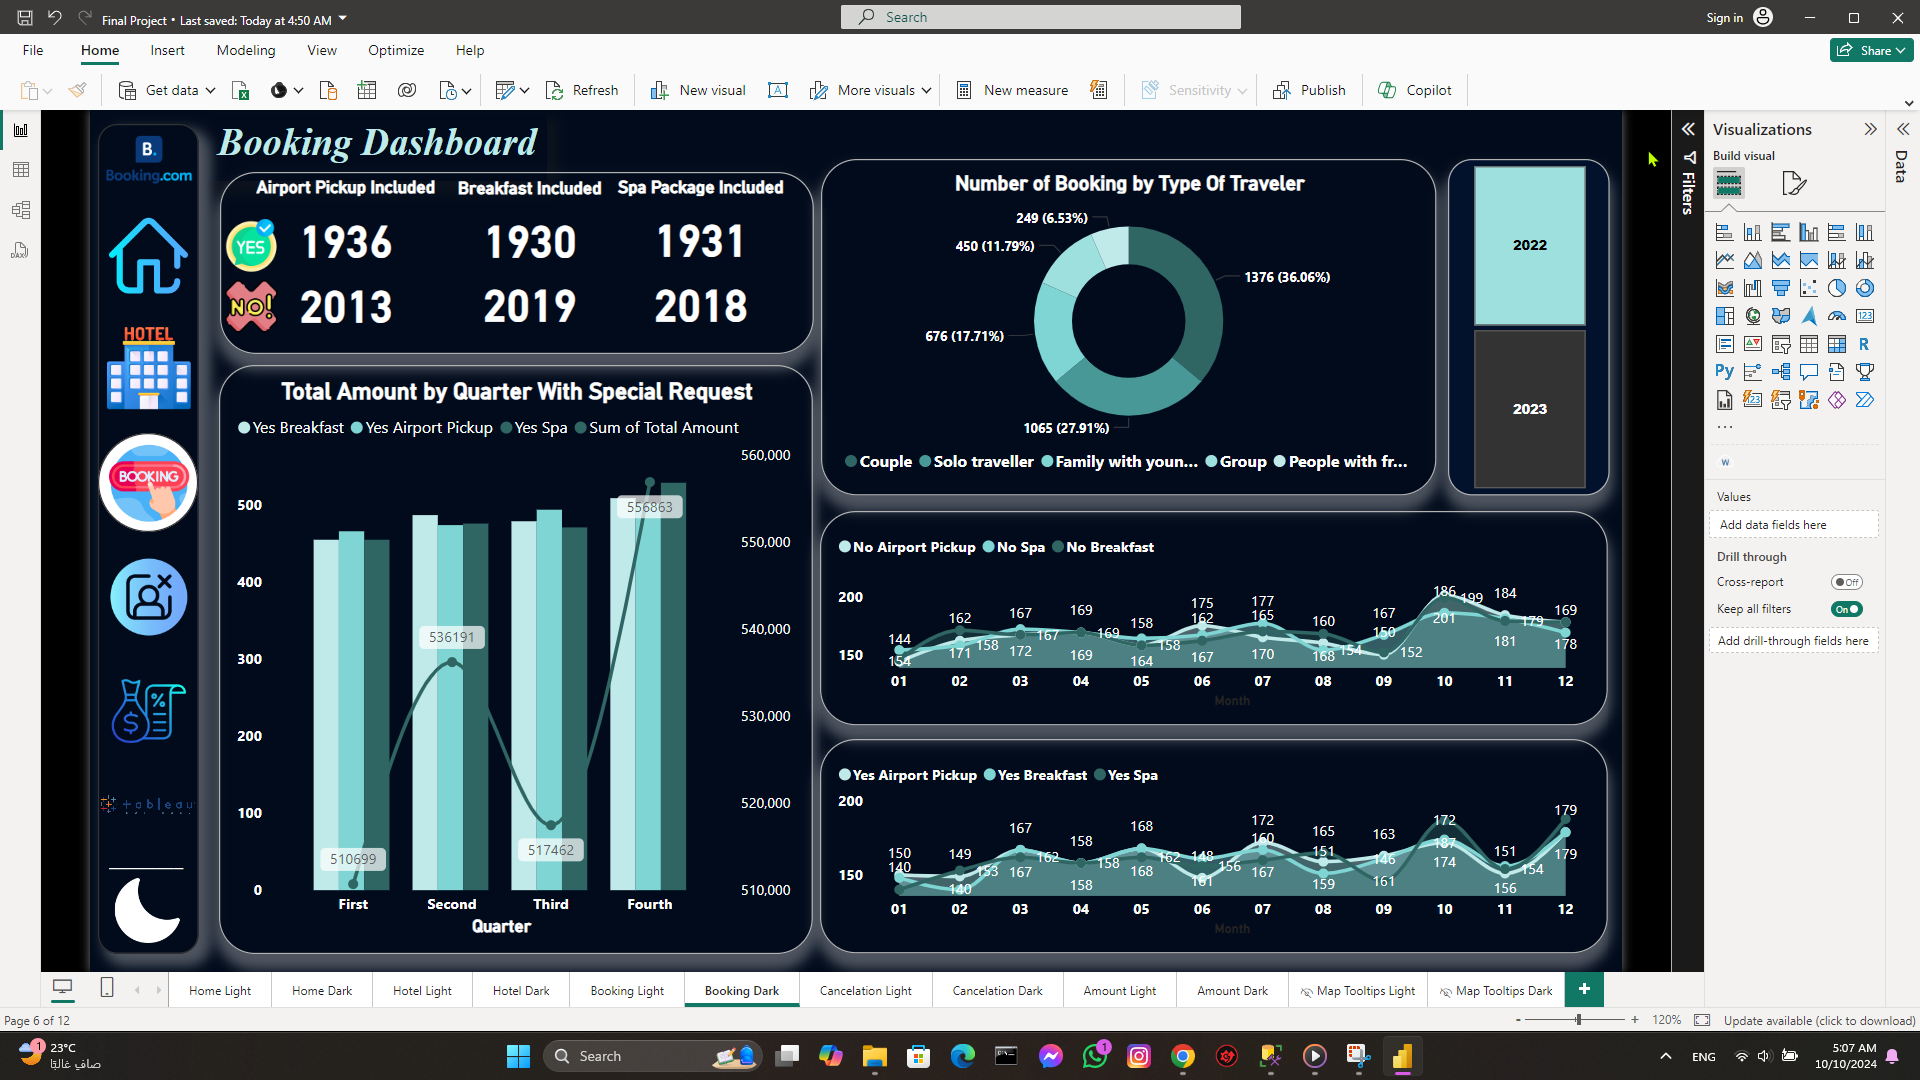

Layout of this report page (visuals, bound fields, positions):
{"tool":"tableau","page":{"name":"Booking Dashboard ","canvas":[1450,830],"ordinal":0},"visuals":[{"type":"image","param":"Image/boas.jpg","box":[8,8,1434,814]},{"type":"text","box":[508,26.4,370,34.2]},{"type":"image","param":"Image/choose.png","box":[91,28.3,47,39.1]},{"type":"text","box":[65,75.2,100,29.3]},{"type":"worksheet","title":"Num Of Completed and Cancelled Booking","mark":"Pie","box":[218,89,374,191]},{"type":"worksheet","title":" Booking with Breakfast Included","mark":"Automatic","rows":["Calculation_673288203220189195","Calculation_673288203220189195"],"box":[597,92,372,186]},{"type":"worksheet","title":"Bookings By Room Type ","mark":"Automatic","rows":["Booking_id_SK","Booking_id_SK"],"cols":["Room Type"],"box":[992,93,427,384]},{"type":"dashboard-object","box":[26,133.8,174,52.7]},{"type":"dashboard-object","box":[27,210.9,174,46.9]},{"type":"dashboard-object","box":[26,284.2,174,46.9]},{"type":"worksheet","title":" Booking with Spa Included","mark":"Automatic","rows":["Calculation_673288203220189195","Calculation_673288203220189195"],"box":[222,291,369,194]},{"type":"worksheet","title":" Booking with Airport Pickup Included","mark":"Automatic","rows":["Calculation_673288203220189195","Calculation_673288203220189195"],"box":[599,292,372,191]},{"type":"dashboard-object","box":[26,357.4,174,46.9]},{"type":"dashboard-object","box":[26,437.5,174,46.9]},{"type":"worksheet","title":"Num Of Bookings By Countries","mark":"Automatic","rows":["Booking_id_SK"],"cols":["Country"],"box":[219,496,1203,310]},{"type":"blank","box":[53,504,123,2]},{"type":"text","box":[80,519,73,34]},{"type":"dashboard-object","box":[71,565,76,39]},{"type":"dashboard-object","box":[122,565,91,39]},{"type":"blank","box":[51,631,123,2]},{"type":"text","box":[47,644,144,25]},{"type":"image","param":"Image/Microsoft-Power-BI-Symbol.png","box":[75,676,77,61]}]}

Visuals, with their boxes on the page's 1450x830 design canvas (x1, y1, x2, y2). These are canvas units, not pixel positions in the 1920x1080 screenshot, which may show the page scaled, cropped or inside an application window:
image: l=8, t=8, r=1442, b=822
text: l=508, t=26, r=878, b=61
image: l=91, t=28, r=138, b=67
text: l=65, t=75, r=165, b=104
"Num Of Completed and Cancelled Booking" worksheet (Pie marks): l=218, t=89, r=592, b=280
" Booking with Breakfast Included" worksheet: l=597, t=92, r=969, b=278
"Bookings By Room Type " worksheet: l=992, t=93, r=1419, b=477
dashboard-object: l=26, t=134, r=200, b=186
dashboard-object: l=27, t=211, r=201, b=258
dashboard-object: l=26, t=284, r=200, b=331
" Booking with Spa Included" worksheet: l=222, t=291, r=591, b=485
" Booking with Airport Pickup Included" worksheet: l=599, t=292, r=971, b=483
dashboard-object: l=26, t=357, r=200, b=404
dashboard-object: l=26, t=438, r=200, b=484
"Num Of Bookings By Countries" worksheet: l=219, t=496, r=1422, b=806
blank: l=53, t=504, r=176, b=506
text: l=80, t=519, r=153, b=553
dashboard-object: l=71, t=565, r=147, b=604
dashboard-object: l=122, t=565, r=213, b=604
blank: l=51, t=631, r=174, b=633
text: l=47, t=644, r=191, b=669
image: l=75, t=676, r=152, b=737
